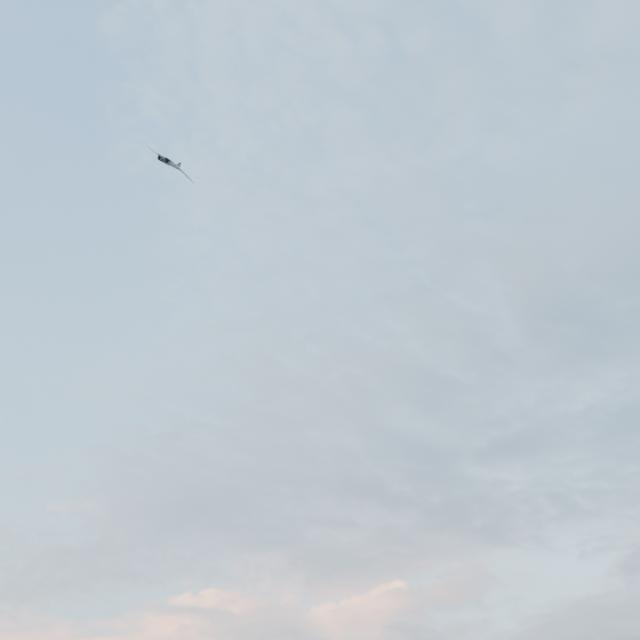Airaplan: (148, 146, 195, 183)
